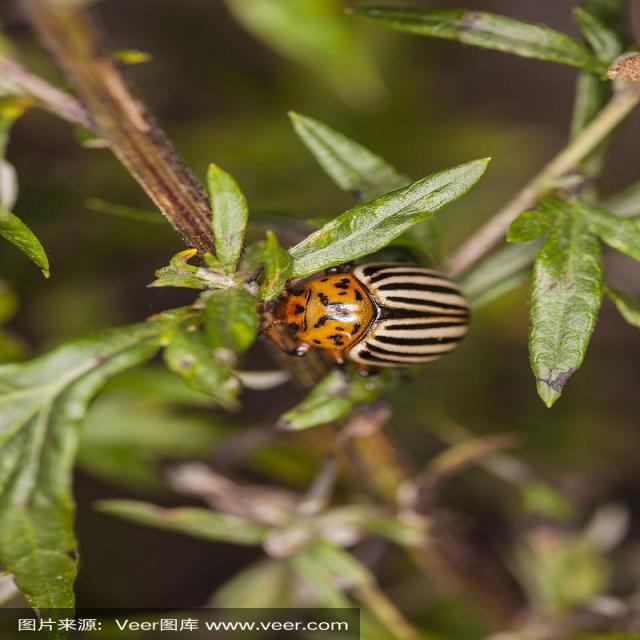ShuCaiHuaBanChong-Grown-: (256, 259, 496, 373)
